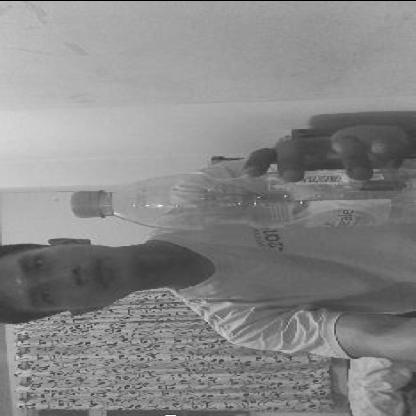plastic_bottles: (74, 166, 414, 228)
